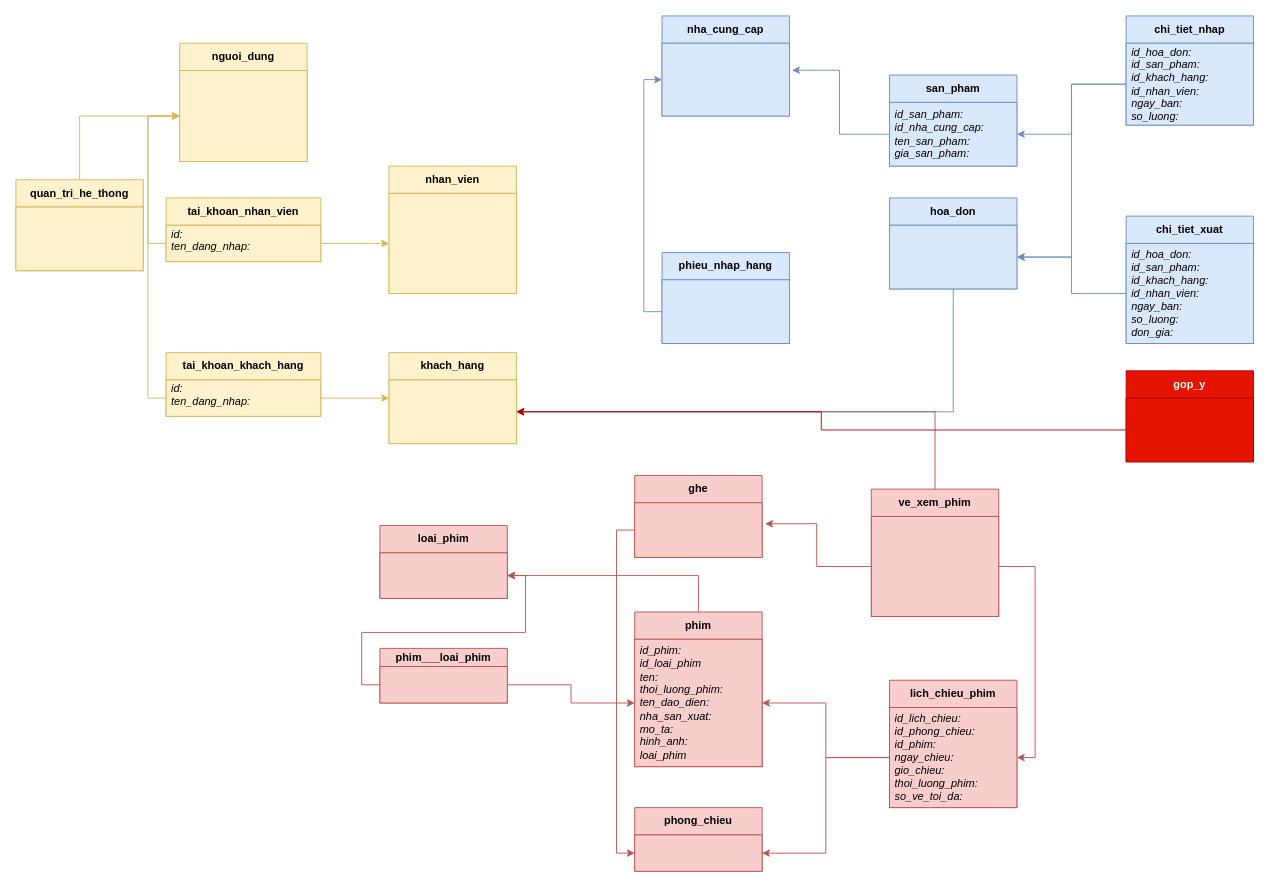
Some shapes in this 1269 by 887 pixel diagram are drawn without their labels. Each missing label, with the centre of its shape:
"id: ho_ten_quan_tri: emai: so_dien_thoai:" belongs at pixel 79 238.
"id: ten_dang_nhap: mat_khau: loai_tai_khoan: ngay_tao: trang_thai:" belongs at pixel 243 116.
"id: ten_nhan_vien: ngay_sinh: dia_chi: ngay_vao_lam: emai: so_dien_thoai" belongs at pixel 452 242.
"id_ghe: id_phong_chieu: trang_thai_ghe:" belongs at pixel 698 529.
"id_gop_y: id_khach_hang: noi_dung: ngay_gop_y:" belongs at pixel 1189 429.
"id_hoa_don: id_khach_hang: tong_tien: ngay_ban:" belongs at pixel 953 256.
"id_khach_hang: ten_khach_hang: emai: so_dien_thoai" belongs at pixel 452 411.
"id_loai_phim: ten_loai_phim: mo_ta" belongs at pixel 443 575.
"id_nha_cung_cap: ten_nha_cung_cap: dia_chi_nha_cung_cap email: so_dien_thoai:" belongs at pixel 725 79.
"id_phieu_nhap: id_nha_cung_cap: ngay_nhap: tong_tien:" belongs at pixel 725 311.
"id_phim: id_loai_phim:" belongs at pixel 443 684.
"id_phong_chieu: trang_thai_phong_chieu:" belongs at pixel 698 852.
"id_ve: id_khach_hang: id_lich_chieu: id_ghe: gia_ve: ngay_mua_ve: trang_thai_ve:" belongs at pixel 934 566.
